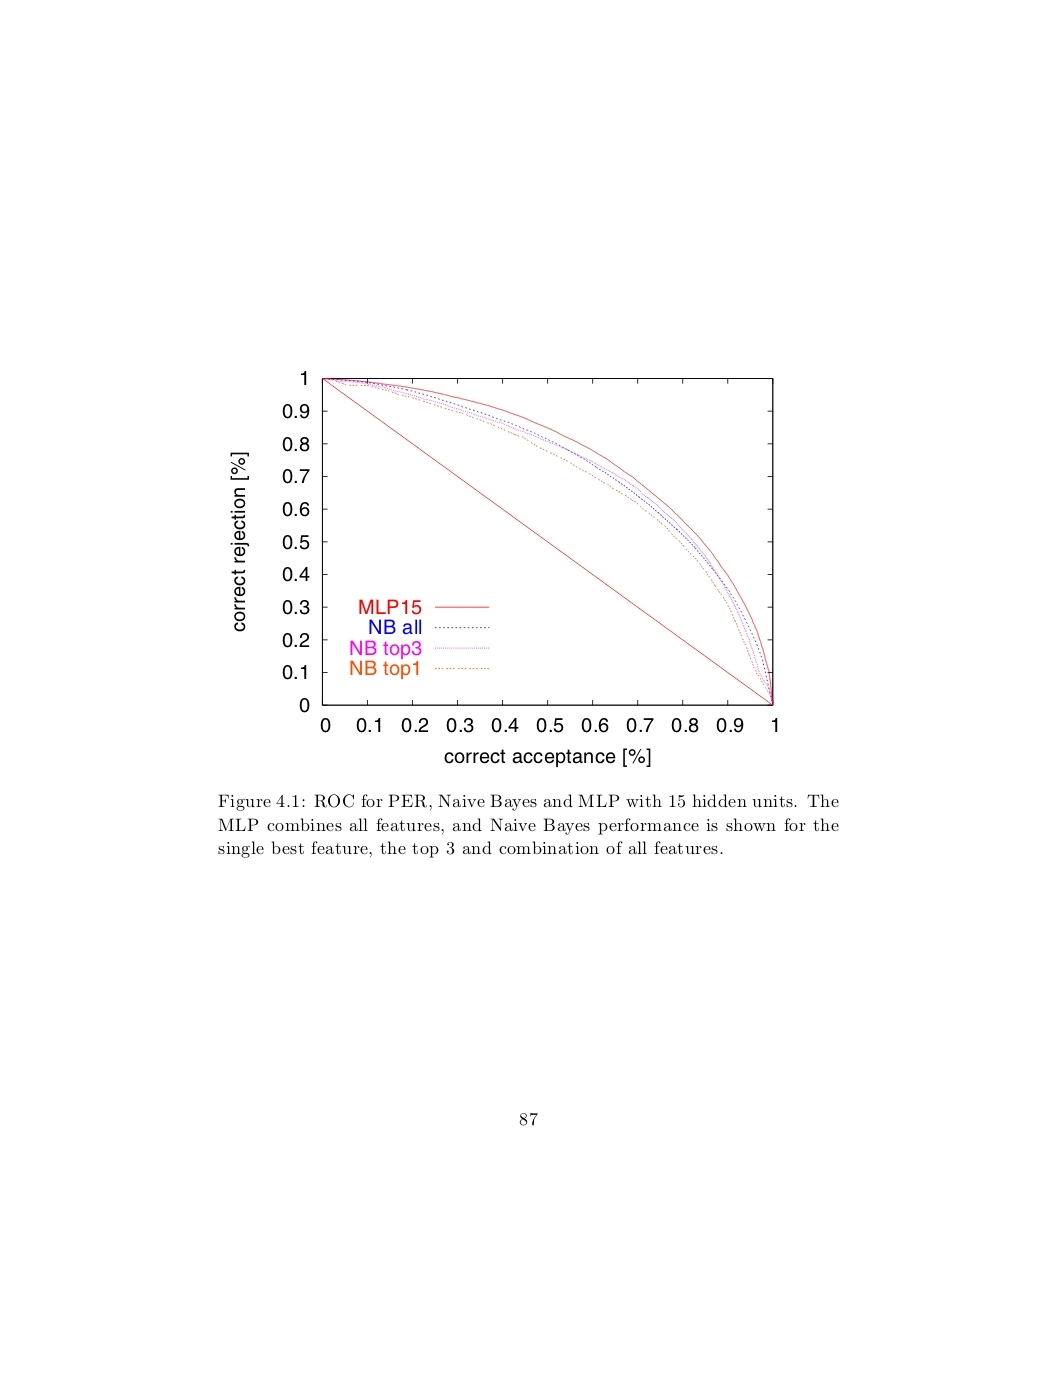figure: (230, 370, 777, 767)
